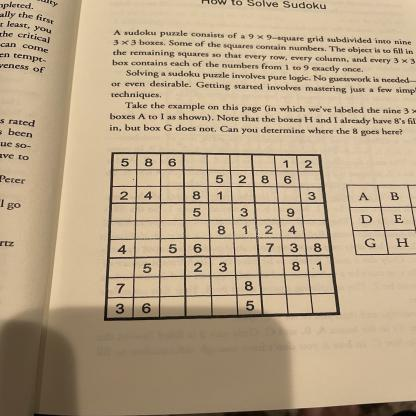sudoku: (102, 150, 346, 323)
